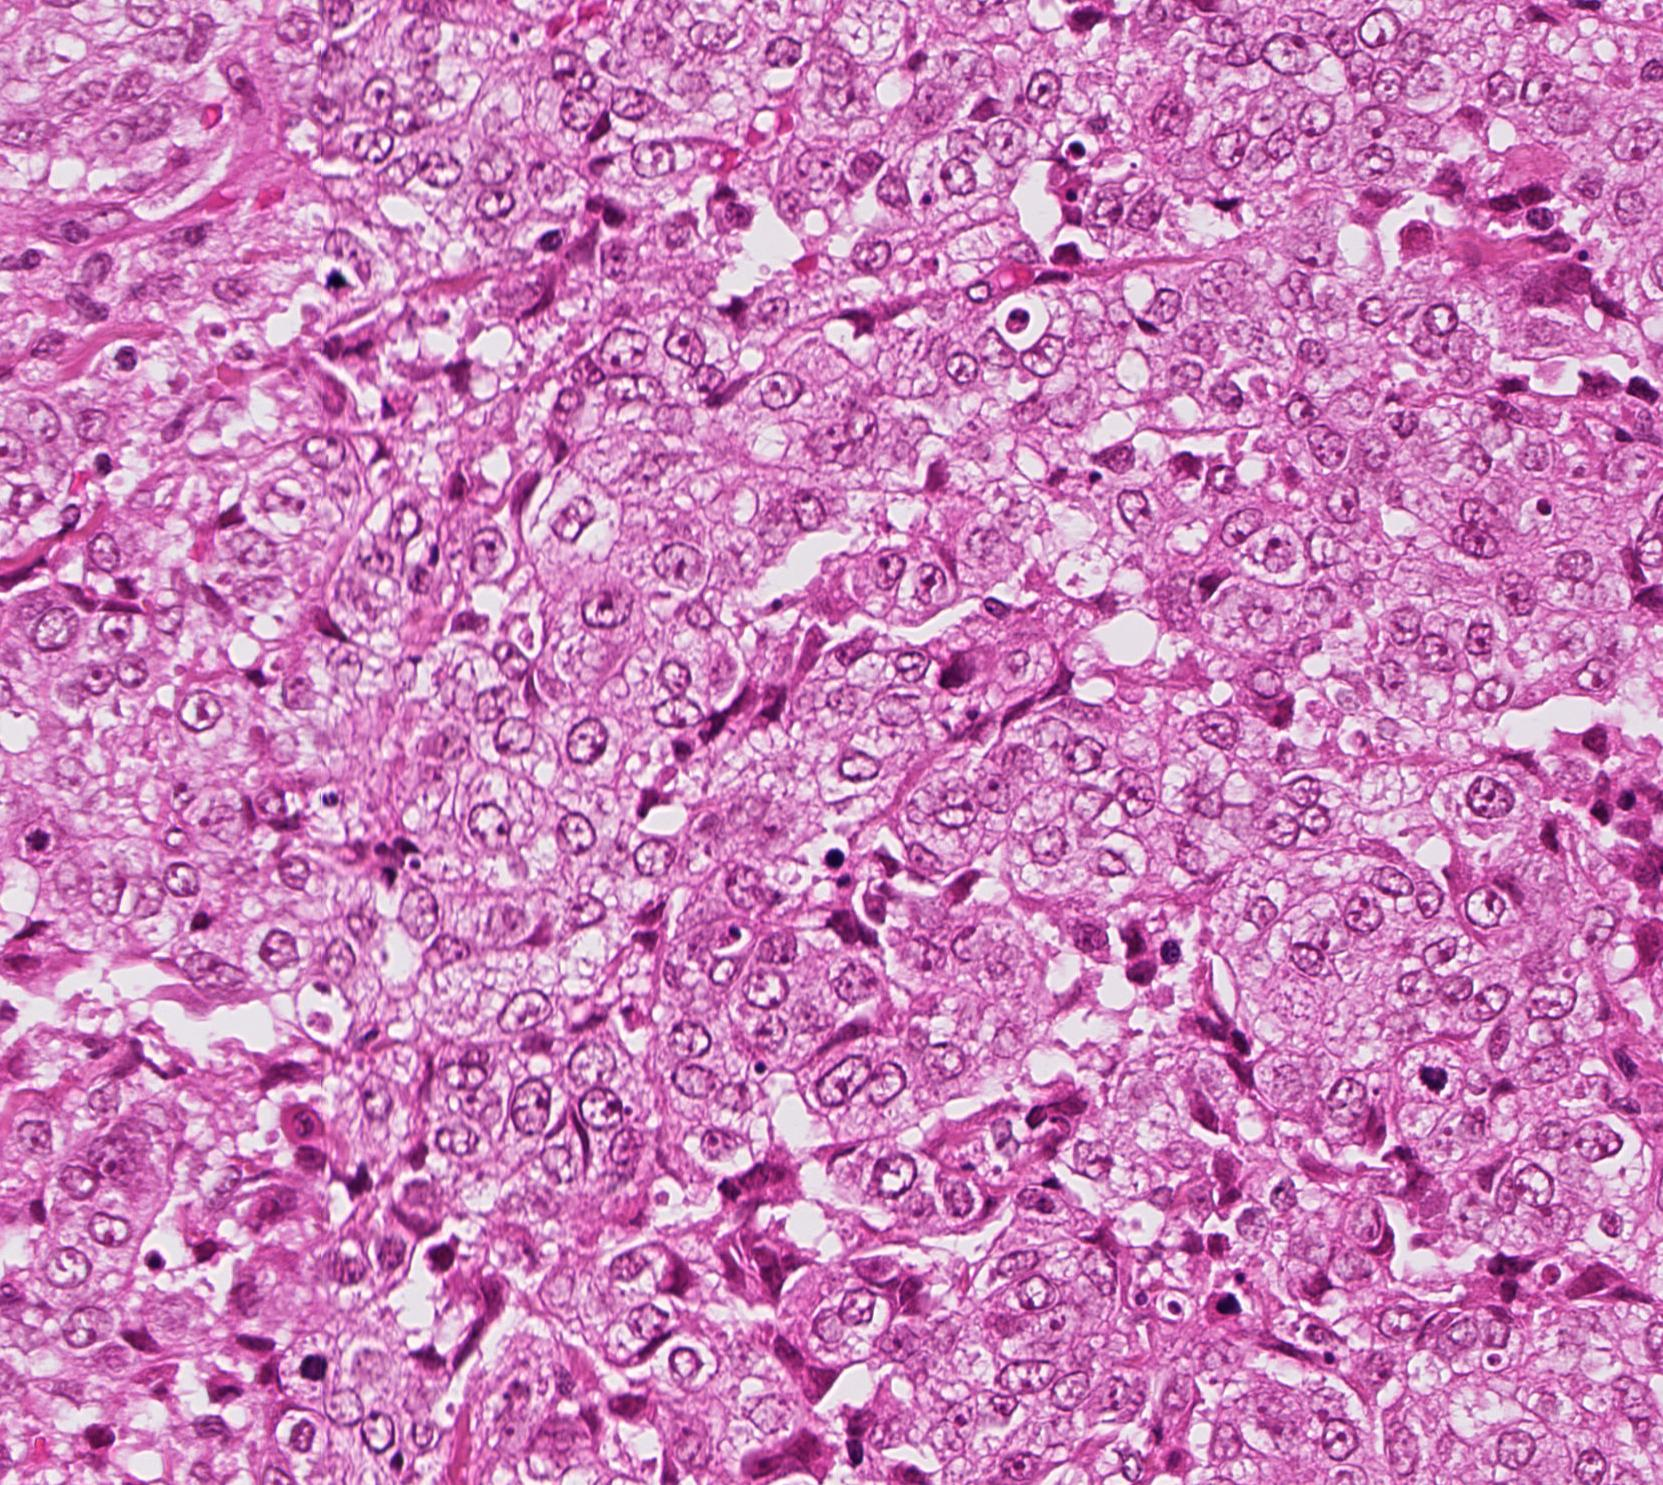mitosis: (1402, 1039, 1462, 1099), (282, 1337, 343, 1398)
